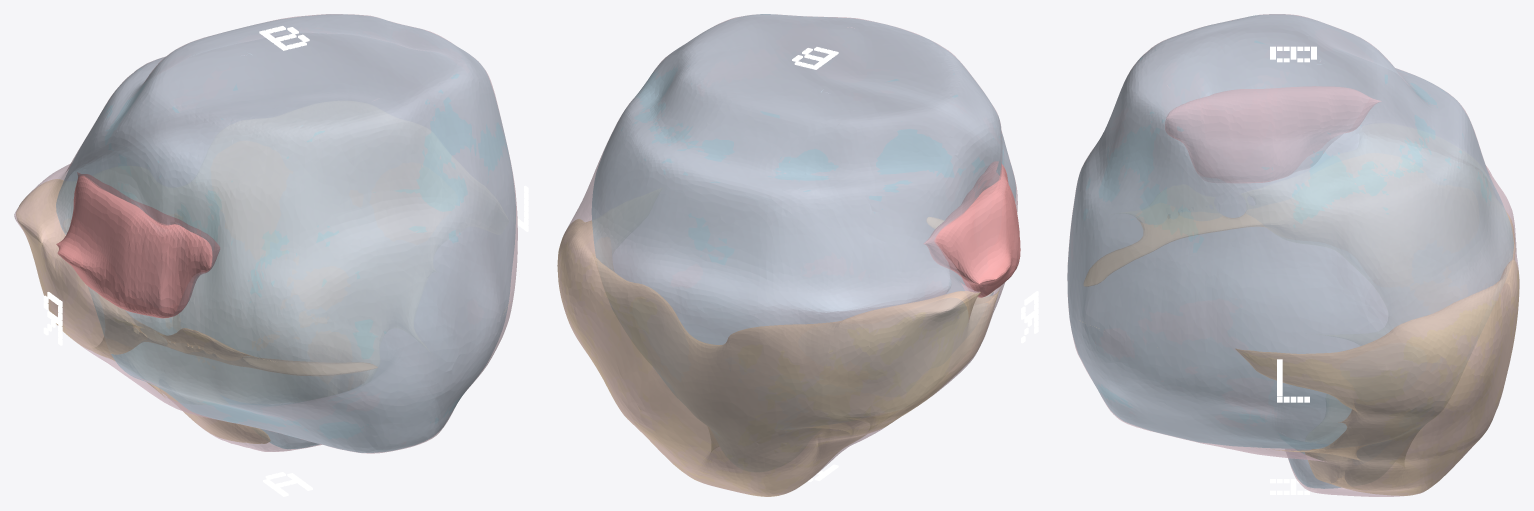
3 views of the same model, side by side, from view 1: azimuth 30°, elevation 25°; view 2: azimuth 150°, elevation 25°; view 3: azimuth 270°, elevation 25° (orthographic). The views are drawn at different scales.
Visible parts, largest first — view 1: prostate_gland, transition_zone, lesion_01, peripheral_zone, pv_ar_marker_B, pv_ar_marker_R; view 2: prostate_gland, transition_zone, peripheral_zone, lesion_01; view 3: prostate_gland, transition_zone, peripheral_zone, lesion_01, pv_ar_marker_B.
Part boxes in pixels (bbox=[...]): prostate_gland: bbox=[14, 14, 517, 453]; transition_zone: bbox=[56, 14, 515, 452]; lesion_01: bbox=[56, 172, 219, 318]; peripheral_zone: bbox=[16, 179, 377, 443]; pv_ar_marker_B: bbox=[259, 26, 309, 50]; pv_ar_marker_R: bbox=[43, 292, 62, 345]; prostate_gland: bbox=[557, 14, 1017, 496]; transition_zone: bbox=[592, 14, 1015, 382]; peripheral_zone: bbox=[557, 217, 1000, 496]; lesion_01: bbox=[924, 161, 1020, 297]; prostate_gland: bbox=[1067, 14, 1519, 496]; transition_zone: bbox=[1067, 14, 1513, 488]; peripheral_zone: bbox=[1084, 212, 1519, 495]; lesion_01: bbox=[1165, 86, 1380, 182]; pv_ar_marker_B: bbox=[1270, 46, 1316, 62].
Size of the model in its own units: 0.0618 by 0.0565 by 0.0533.
